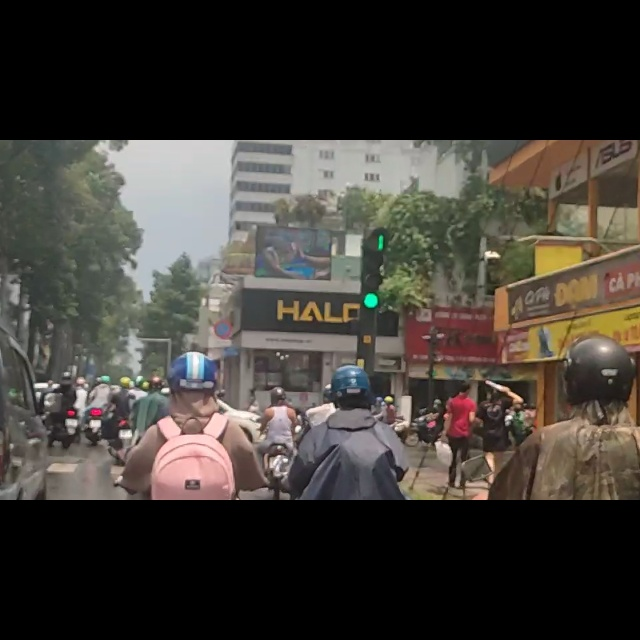Cấm đỗ xe: (213, 318, 234, 340)
Đèn xanh: (363, 292, 381, 311)
